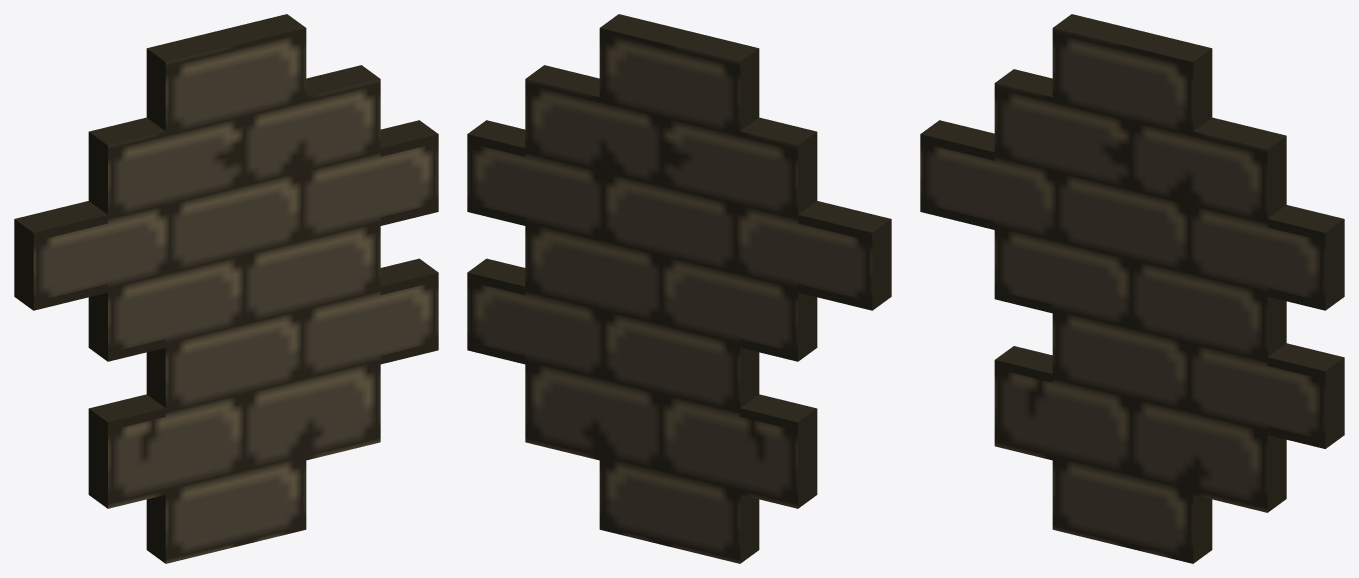
File: Trash.fbx
The picture shows the model from 3 angles, left to right: view 1: azimuth 30°, elevation 25°; view 2: azimuth 150°, elevation 25°; view 3: azimuth 330°, elevation 25°; orthographic projection.
Visible parts, largest first — view 1: Trash; view 2: Trash; view 3: Trash.
Part boxes in pixels (<box>): Trash: <box>14,14,438,563</box>; Trash: <box>467,14,891,563</box>; Trash: <box>920,14,1344,563</box>.
Size of the model in its own units: 153 by 181 by 12.5.
